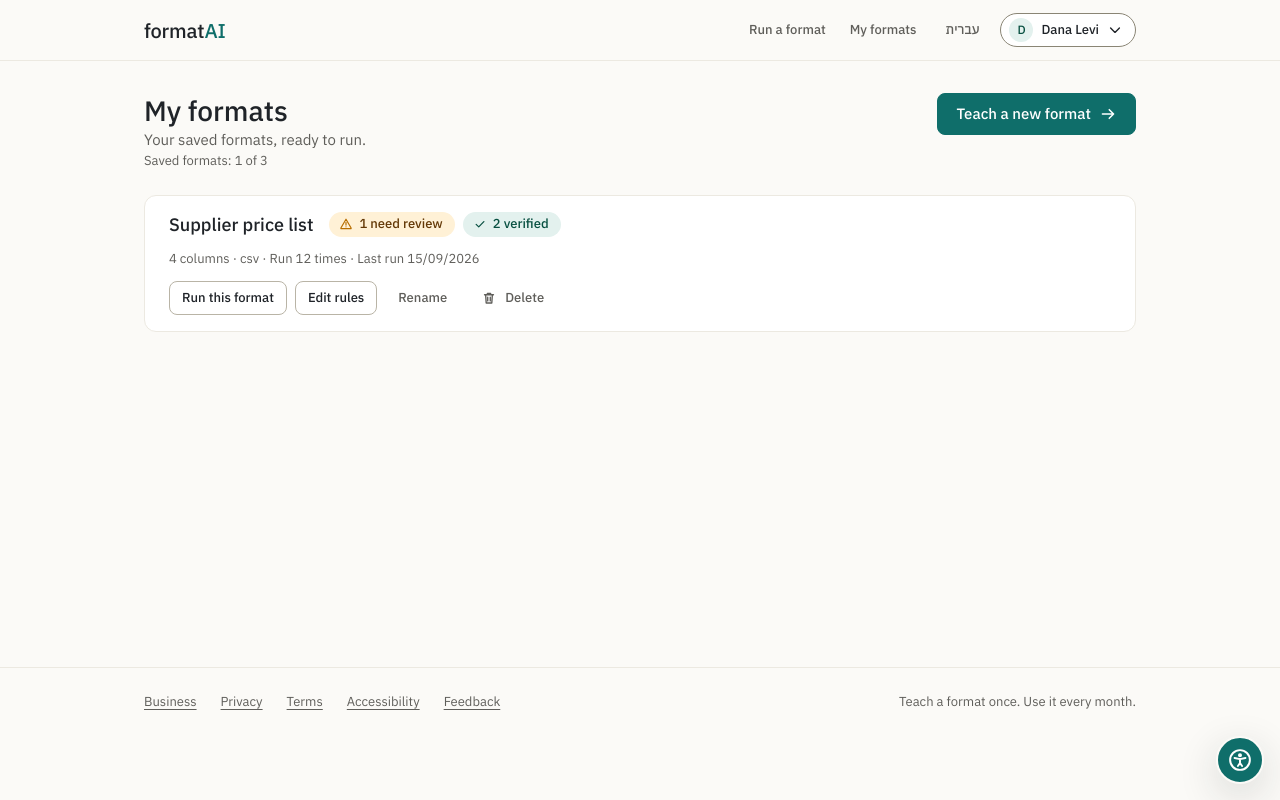
Scenario: My formats › delete › a failed delete says so and keeps the format
Check: the list with test id "format-list" is shown, box [144,195,1136,332]
What coordinates should you click on to do the following:
click the button "Delete"
I would click on:
 (513, 298)
Its box is [468,281,557,315].
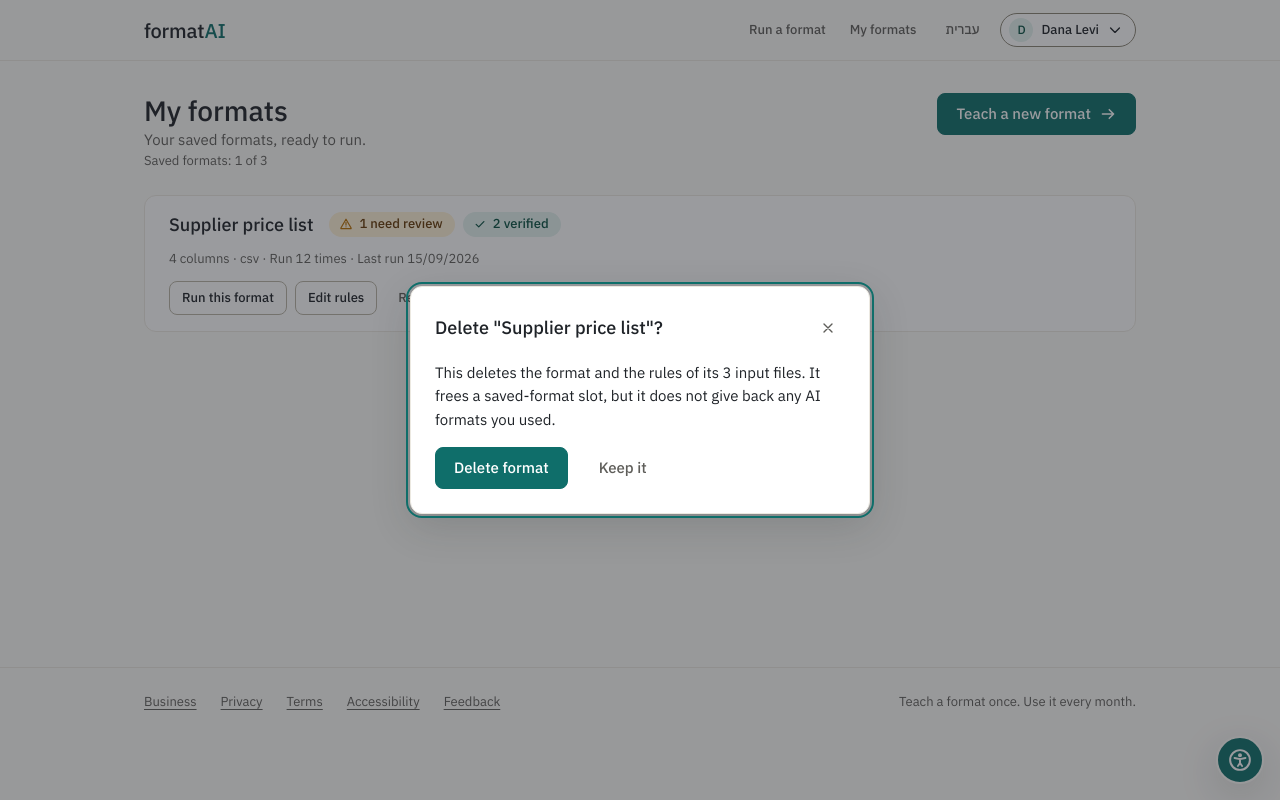
What coordinates should you click on to do the following:
click the button "Delete format"
I would click on:
 (501, 468)
Its box is [435,447,568,489].
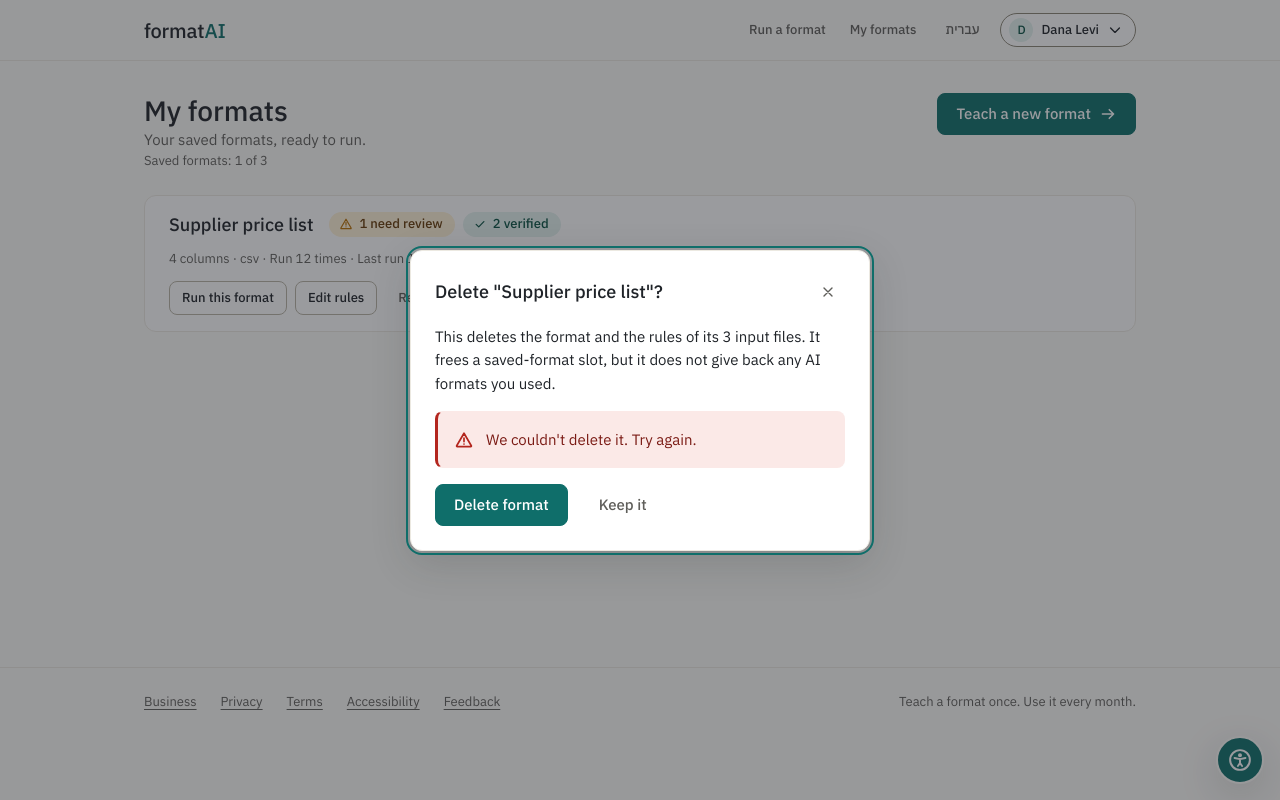
Check: the text "We couldn't delete it. Try again." is shown, box [486,427,696,451]
